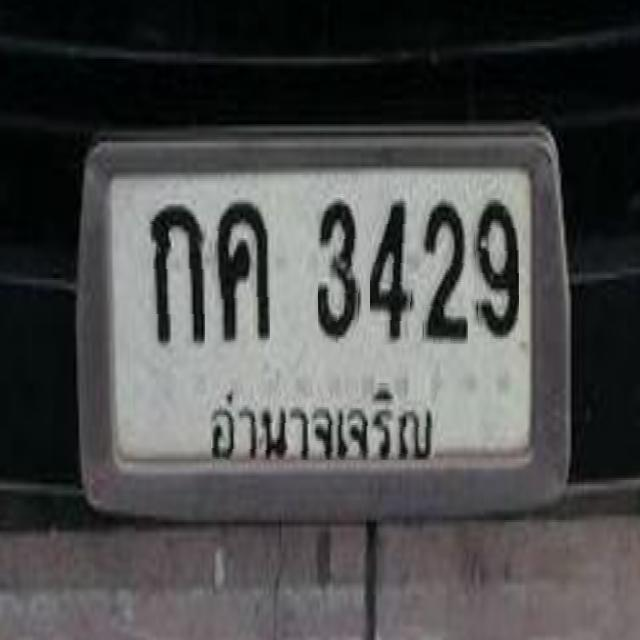2: (421, 197, 471, 347)
3: (305, 195, 358, 341)
4: (367, 196, 415, 344)
9: (475, 198, 522, 342)
A01: (144, 203, 207, 346)
A04: (214, 203, 286, 345)
ACR: (199, 377, 443, 466)
